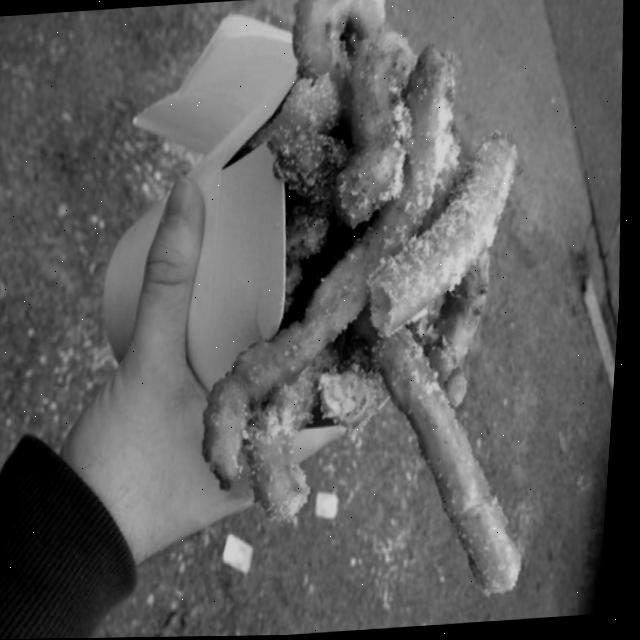炸货点心: (152, 0, 625, 638)
